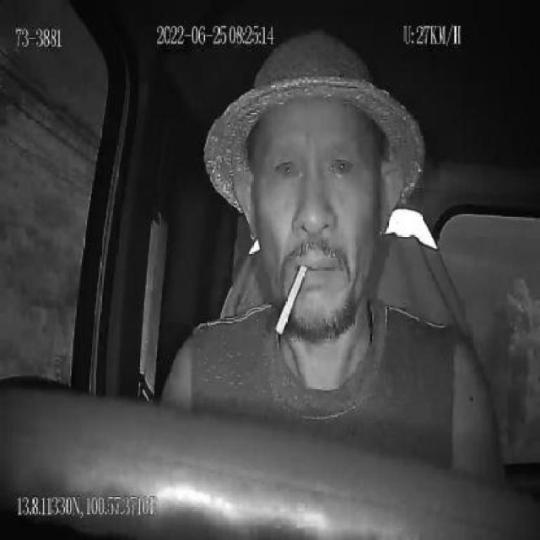smoking: (276, 260, 305, 340)
